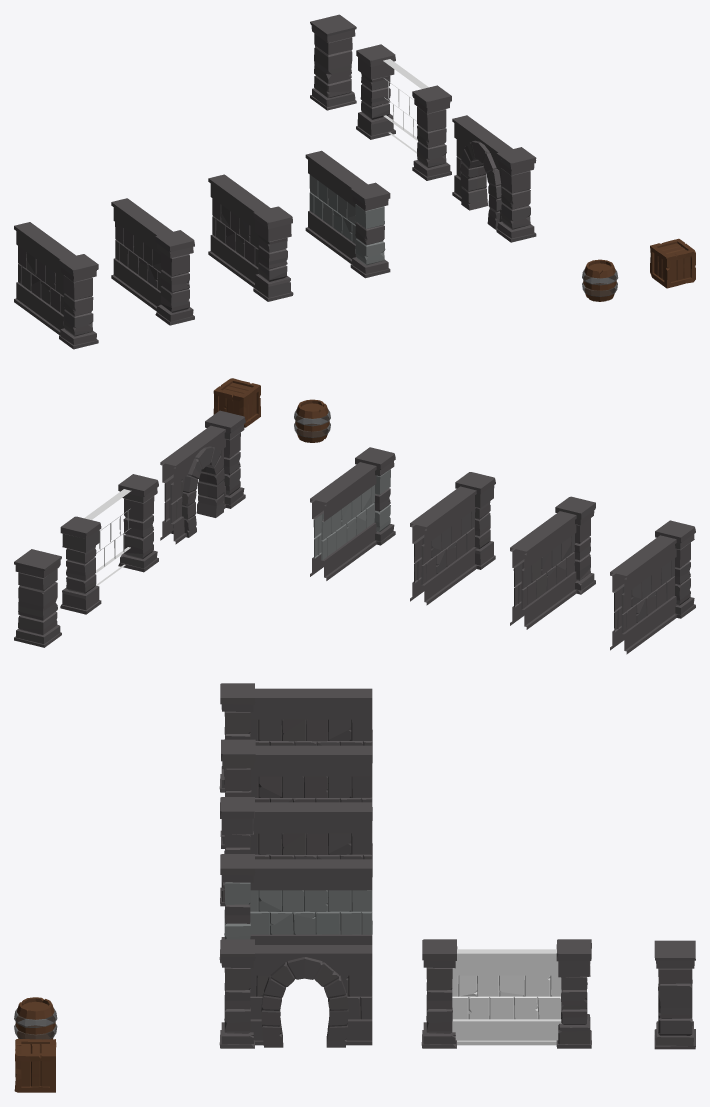
The model's file is dungeon.glb.
3 views of the same model, one above another, from view 1: azimuth 30°, elevation 25°; view 2: azimuth 150°, elevation 25°; view 3: azimuth 270°, elevation 25° (orthographic). The views are drawn at different scales.
Parts seen in each view (by area): view 1: wall 2, wall 1, wall 4, wall 3, pillar 3.001, pillar 2, pillar 1, pillar 3.002, pillar 3, crate, barrel, wall; view 2: wall 2, wall 4, wall 3, wall 1, pillar 3.001, pillar 2, pillar 1, pillar 3.002, crate, barrel, pillar 3, wall; view 3: wall 1, wall, pillar 3.001, wall 2, wall 4, wall 3, pillar 2, pillar 1, pillar 3.002, pillar 3, crate, barrel.
Boxes of the visible parts, x1=… form: wall 2: x1=208, y1=174, x2=293, y2=301; wall 1: x1=305, y1=150, x2=390, y2=278; wall 4: x1=14, y1=222, x2=98, y2=349; wall 3: x1=111, y1=198, x2=194, y2=325; pillar 3.001: x1=452, y1=115, x2=536, y2=229; pillar 2: x1=310, y1=14, x2=356, y2=110; pillar 1: x1=356, y1=44, x2=395, y2=139; pillar 3.002: x1=412, y1=85, x2=451, y2=180; pillar 3: x1=496, y1=156, x2=536, y2=242; crate: x1=650, y1=238, x2=695, y2=288; barrel: x1=582, y1=259, x2=618, y2=301; wall: x1=382, y1=59, x2=428, y2=153; wall 2: x1=410, y1=472, x2=495, y2=605; wall 4: x1=610, y1=520, x2=695, y2=654; wall 3: x1=510, y1=496, x2=595, y2=629; wall 1: x1=310, y1=447, x2=395, y2=580; pillar 3.001: x1=160, y1=410, x2=245, y2=544; pillar 2: x1=14, y1=549, x2=61, y2=647; pillar 1: x1=60, y1=516, x2=101, y2=614; pillar 3.002: x1=118, y1=474, x2=158, y2=572; crate: x1=213, y1=378, x2=260, y2=427; barrel: x1=294, y1=399, x2=330, y2=442; pillar 3: x1=224, y1=424, x2=245, y2=508; wall: x1=84, y1=489, x2=131, y2=585; wall 1: x1=219, y1=854, x2=372, y2=963; wall: x1=452, y1=949, x2=561, y2=1045; pillar 3.001: x1=220, y1=939, x2=372, y2=1047; wall 2: x1=220, y1=797, x2=372, y2=906; wall 4: x1=219, y1=683, x2=372, y2=792; wall 3: x1=220, y1=739, x2=372, y2=848; pillar 2: x1=654, y1=940, x2=695, y2=1049; pillar 1: x1=556, y1=939, x2=591, y2=1048; pillar 3.002: x1=421, y1=939, x2=457, y2=1048; pillar 3: x1=219, y1=957, x2=254, y2=1048; crate: x1=14, y1=1039, x2=56, y2=1092; barrel: x1=14, y1=997, x2=57, y2=1039.
Bounding box in the file's own units: 22.11 × 3.15 × 20.26.
